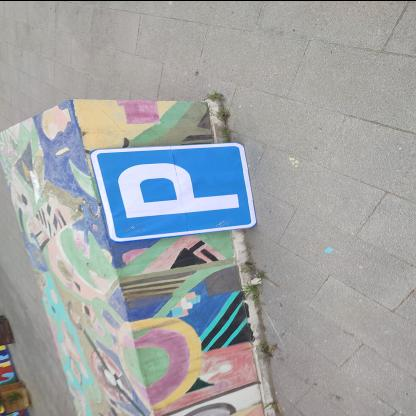Parking-Sign: (90, 142, 259, 242)
